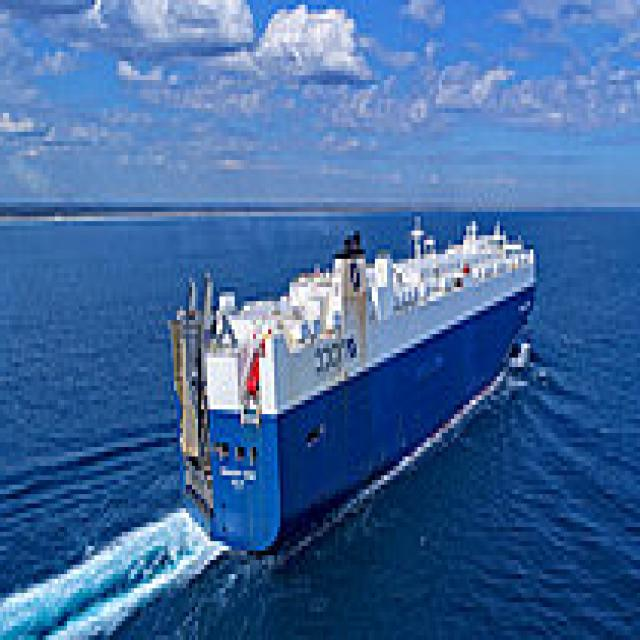Carrier: (170, 198, 546, 560)
